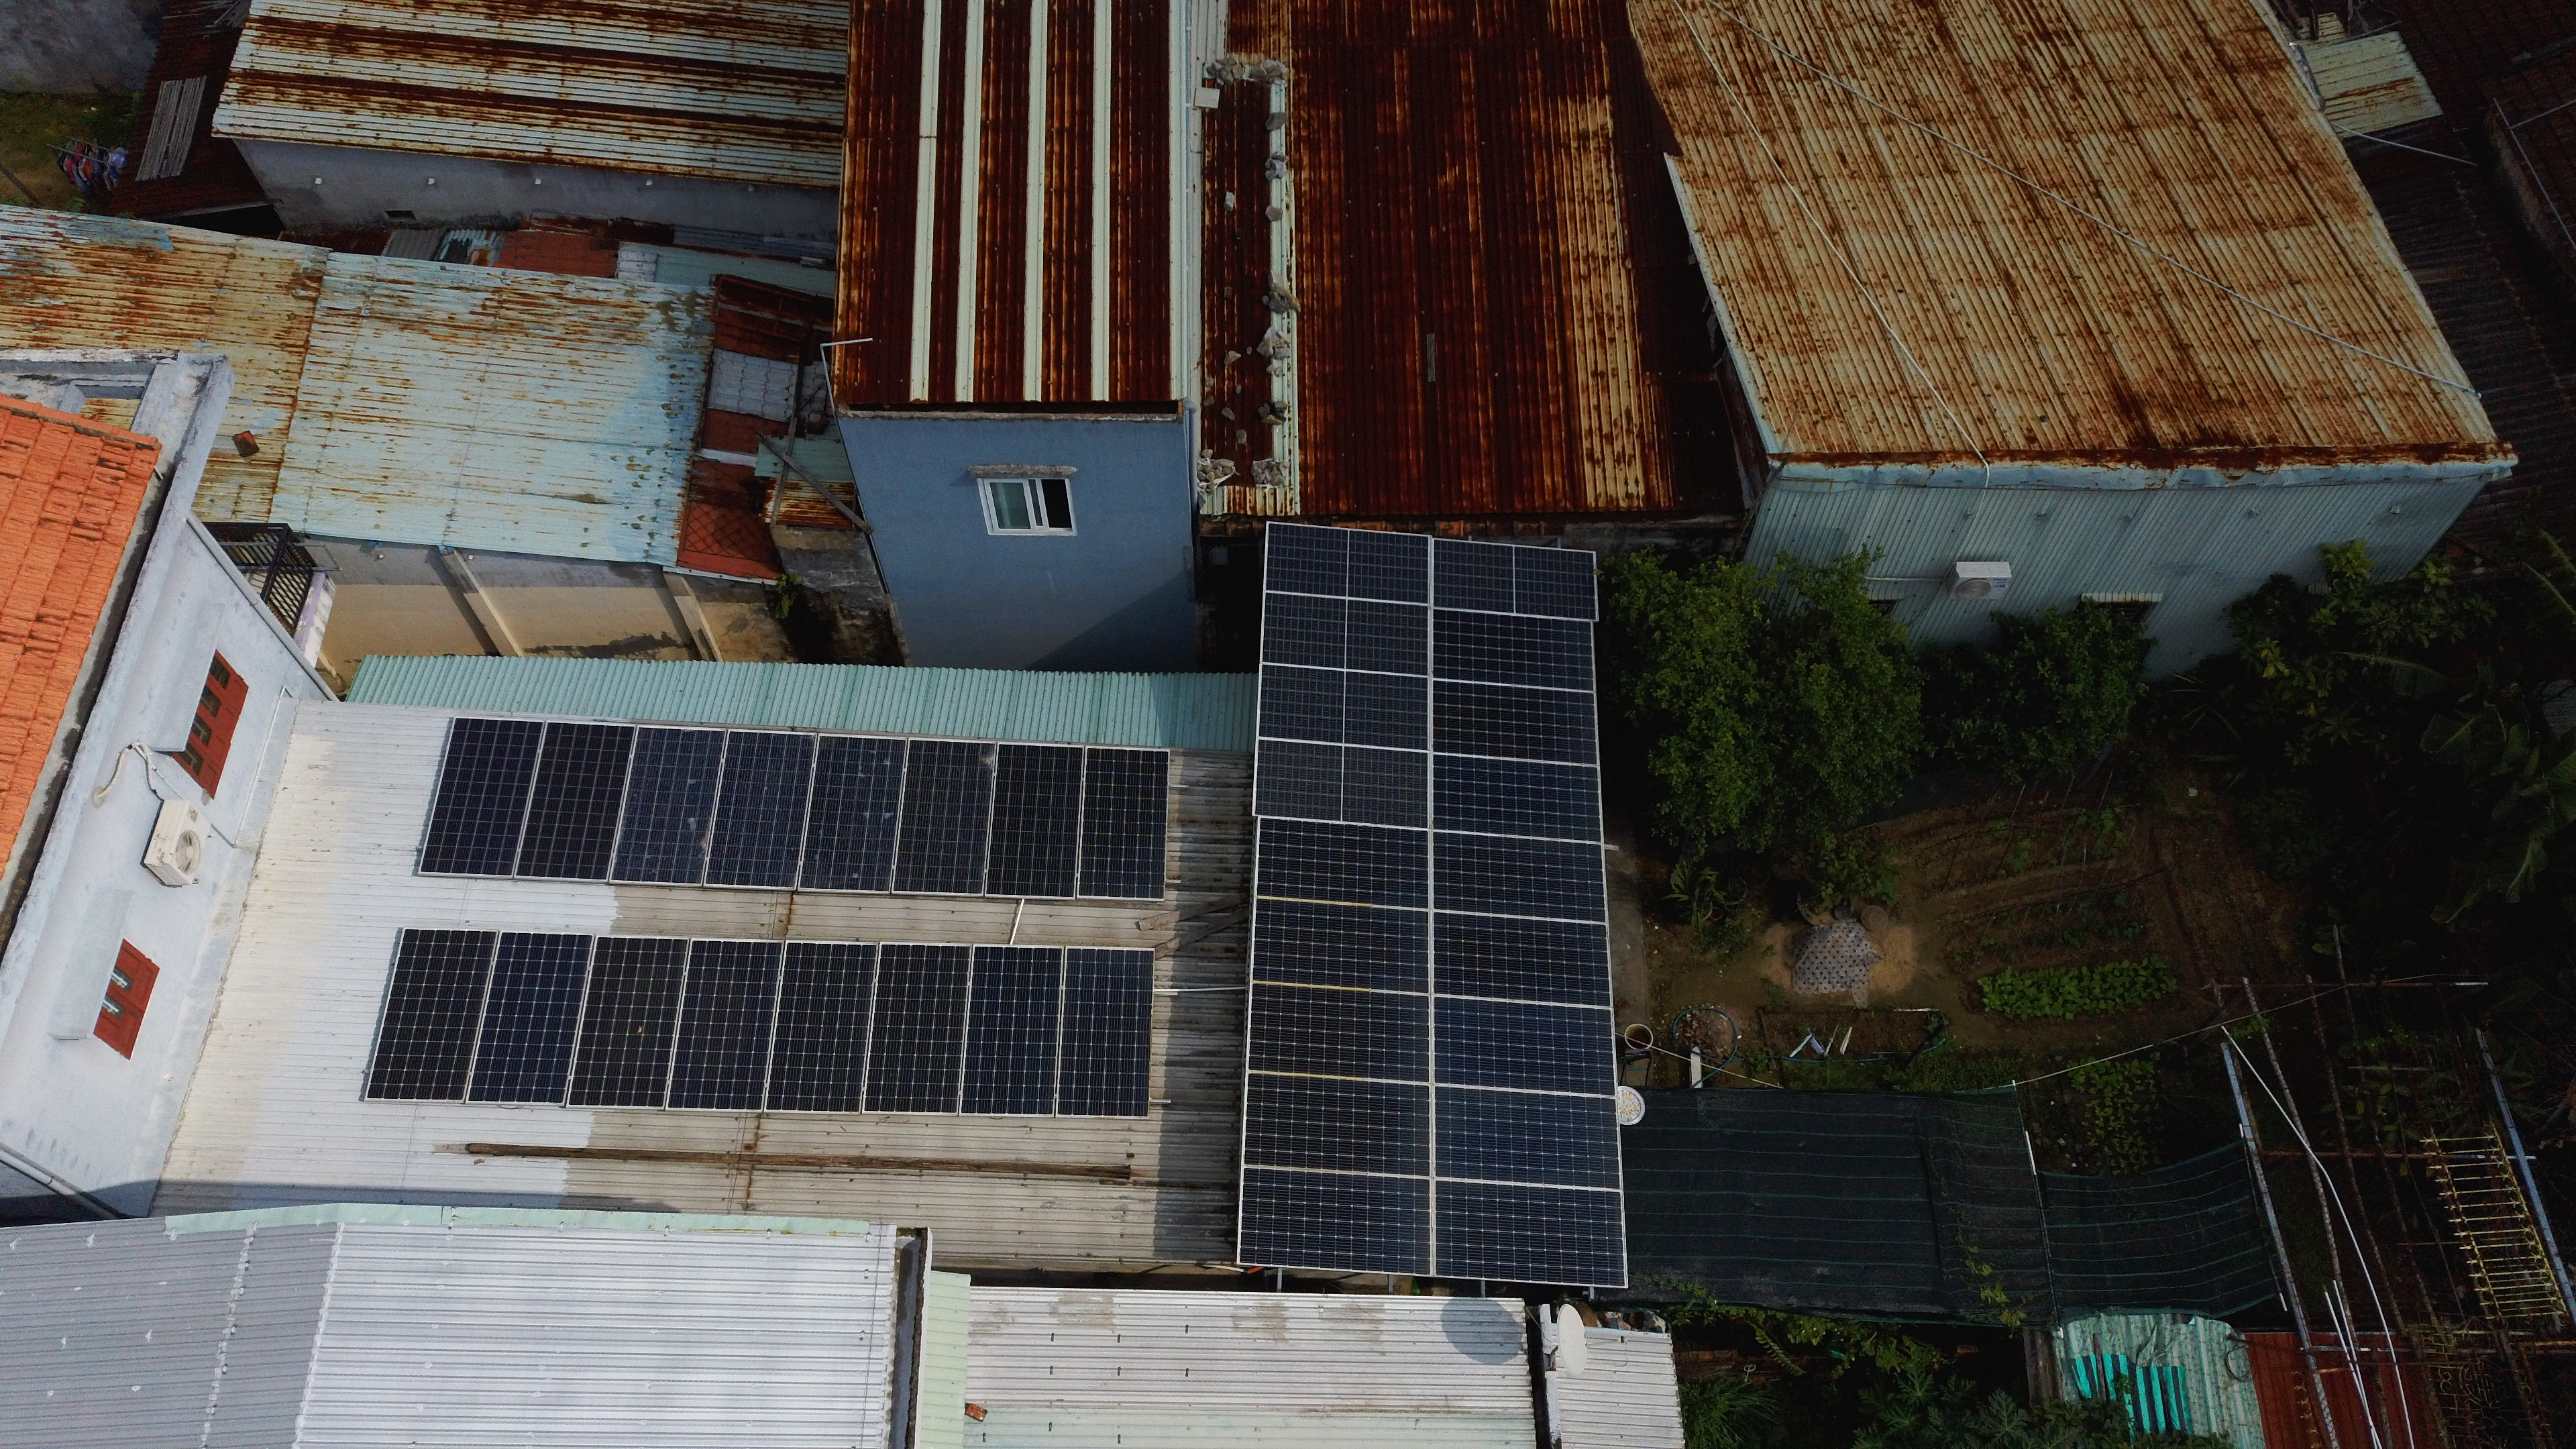solar: (364, 927, 501, 1102), (564, 938, 699, 1109), (465, 934, 600, 1104), (663, 938, 789, 1108), (665, 938, 789, 1109), (419, 715, 545, 883), (513, 722, 640, 886), (766, 939, 885, 1111), (1435, 1180, 1626, 1284), (1246, 1069, 1433, 1175), (1242, 1168, 1430, 1274), (959, 941, 1072, 1116), (862, 941, 975, 1115), (609, 727, 732, 885), (1435, 1086, 1621, 1189), (1249, 982, 1430, 1085), (1249, 982, 1431, 1083), (1051, 943, 1157, 1115), (704, 731, 821, 886), (796, 736, 913, 892), (1433, 998, 1614, 1093), (892, 740, 1003, 893), (1254, 897, 1433, 993), (1431, 913, 1612, 1007), (984, 745, 1090, 899), (1256, 740, 1430, 830), (1256, 819, 1430, 908), (1433, 833, 1606, 922), (1260, 663, 1430, 754), (1074, 743, 1171, 901), (1265, 518, 1433, 607), (1261, 589, 1430, 678), (1431, 755, 1601, 840), (1433, 538, 1598, 623), (1433, 609, 1596, 692), (1433, 683, 1596, 766)
